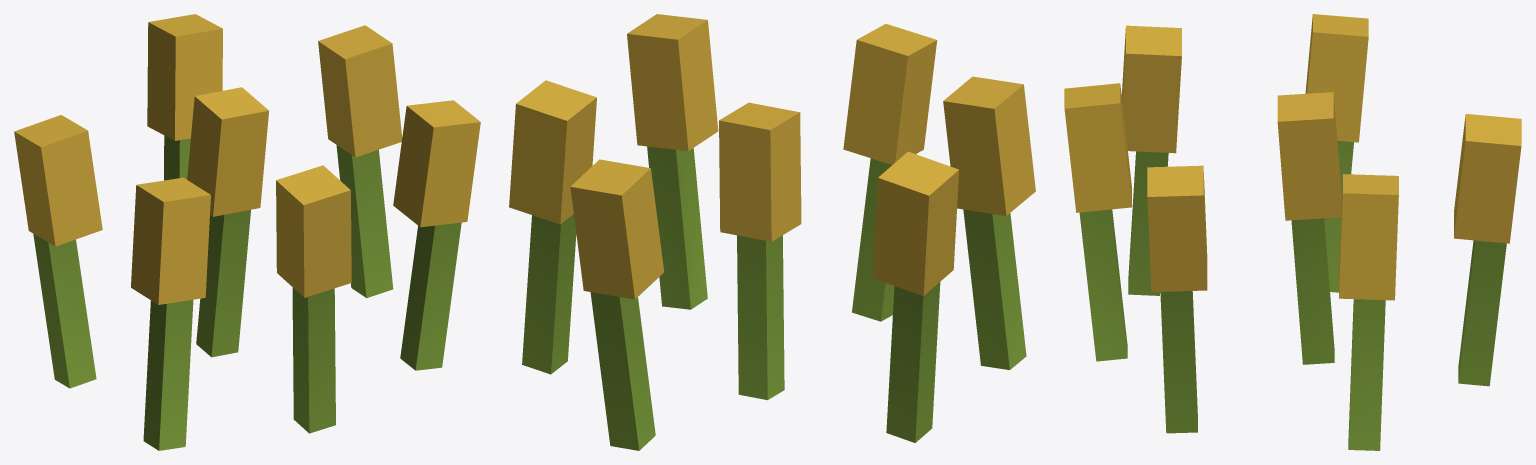
The model's file is Nature__crop_row.glb.
3 views of the same model, side by side, from view 1: azimuth 30°, elevation 25°; view 2: azimuth 150°, elevation 25°; view 3: azimuth 270°, elevation 25° (orthographic). The views are drawn at different scales.
Parts seen in each view (by area): view 1: crop_row_mesh; view 2: crop_row_mesh; view 3: crop_row_mesh.
Boxes of the visible parts, left/top/right/bottom form: crop_row_mesh: left=14, top=14, right=480, bottom=450; crop_row_mesh: left=509, top=14, right=1035, bottom=450; crop_row_mesh: left=1064, top=14, right=1521, bottom=450.
Size of the model in its own units: 0.6714 by 0.4351 by 0.6923.
